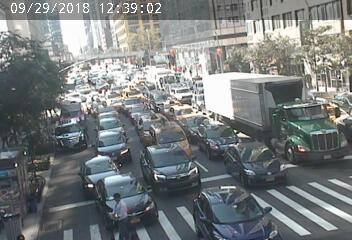car: (271, 97, 347, 159), (197, 190, 275, 233), (227, 145, 283, 182), (98, 178, 152, 212), (139, 156, 202, 183), (200, 125, 238, 152), (148, 125, 192, 146), (81, 159, 118, 180), (49, 126, 87, 146), (95, 135, 133, 152), (127, 116, 166, 131), (184, 117, 217, 131), (166, 106, 198, 120), (152, 73, 180, 87), (128, 108, 155, 120), (61, 104, 85, 117), (173, 87, 193, 101), (96, 117, 119, 128), (146, 92, 169, 102), (125, 88, 147, 98), (94, 106, 115, 116), (119, 96, 142, 103)
